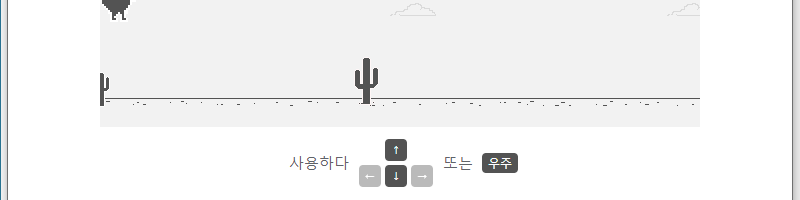dinosaur: (100, 1, 132, 23)
obstacle: (352, 57, 381, 105), (100, 71, 110, 106)
